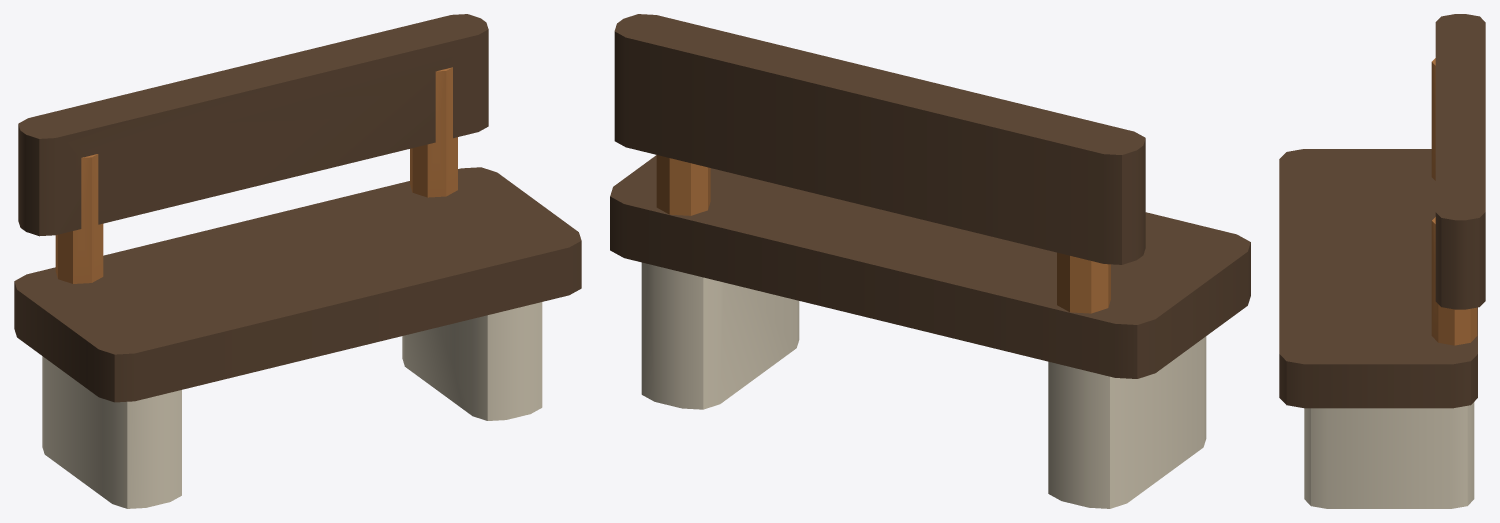
The model's file is park-bench.glb.
3 renders of one model, left to right at view 1: azimuth 30°, elevation 25°; view 2: azimuth 150°, elevation 25°; view 3: azimuth 270°, elevation 25°, orthographic. The views are drawn at different scales.
Parts seen in each view (by area): view 1: park-bench; view 2: park-bench; view 3: park-bench.
Part boxes in pixels (x1,y1,x2,y2): park-bench: (14, 14, 581, 508); park-bench: (610, 14, 1250, 508); park-bench: (1279, 14, 1485, 508).
Bounding box in the file's own units: 3.36 × 2.15 × 1.36.
1 material, 1 textured.
